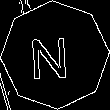N_N: (34, 29, 76, 81)
